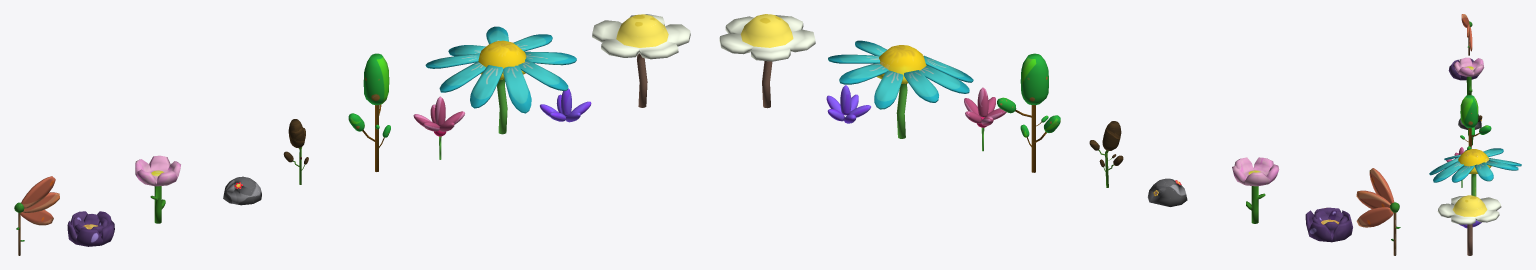
Rendered from flores.fbx.
3 views of the same model, side by side, from view 1: azimuth 30°, elevation 25°; view 2: azimuth 150°, elevation 25°; view 3: azimuth 270°, elevation 25° (orthographic). The views are drawn at different scales.
Visible parts, largest first — view 1: FLOR NO ME OLVIDES, FLOR MARGARITA, FLOR VERDE, FLOR_HOJITAS, FLOR GRANDE, FLOR_, FLORES ROSADAS, ROCA CON FLORES, PASTO MORADO, FLOR CAFE; view 2: FLOR NO ME OLVIDES, FLOR MARGARITA, FLOR VERDE, FLOR_HOJITAS, FLOR GRANDE, FLOR_, FLORES ROSADAS, PASTO MORADO, ROCA CON FLORES, FLOR CAFE; view 3: FLOR NO ME OLVIDES, FLOR MARGARITA, FLOR VERDE, FLOR GRANDE, FLOR_HOJITAS, FLOR_, ROCA CON FLORES, FLORES ROSADAS, PASTO MORADO.
Part boxes in pixels (<box>): FLOR NO ME OLVIDES: <box>425,26,576,134</box>; FLOR MARGARITA: <box>592,14,690,107</box>; FLOR VERDE: <box>348,53,390,171</box>; FLOR_HOJITAS: <box>14,176,59,255</box>; FLOR GRANDE: <box>135,155,180,223</box>; FLOR_: <box>67,211,114,246</box>; FLORES ROSADAS: <box>413,96,464,159</box>; ROCA CON FLORES: <box>223,176,261,205</box>; PASTO MORADO: <box>540,88,591,122</box>; FLOR CAFE: <box>283,119,308,184</box>; FLOR NO ME OLVIDES: <box>828,40,973,138</box>; FLOR MARGARITA: <box>719,14,815,108</box>; FLOR VERDE: <box>997,53,1060,172</box>; FLOR_HOJITAS: <box>1356,168,1400,255</box>; FLOR GRANDE: <box>1232,157,1279,223</box>; FLOR_: <box>1305,207,1352,242</box>; FLORES ROSADAS: <box>964,87,1006,151</box>; PASTO MORADO: <box>826,85,870,123</box>; ROCA CON FLORES: <box>1147,178,1187,206</box>; FLOR CAFE: <box>1089,121,1123,187</box>; FLOR NO ME OLVIDES: <box>1429,148,1521,196</box>; FLOR MARGARITA: <box>1437,195,1501,255</box>; FLOR VERDE: <box>1460,95,1491,149</box>; FLOR GRANDE: <box>1454,57,1484,95</box>; FLOR_HOJITAS: <box>1461,14,1472,55</box>; FLOR_: <box>1448,59,1478,80</box>; ROCA CON FLORES: <box>1458,114,1481,129</box>; FLORES ROSADAS: <box>1446,147,1464,187</box>; PASTO MORADO: <box>1459,220,1481,228</box>.
Size of the model in its own units: 2182 by 358 by 405.
Materials: 10 (10 with a texture image).
